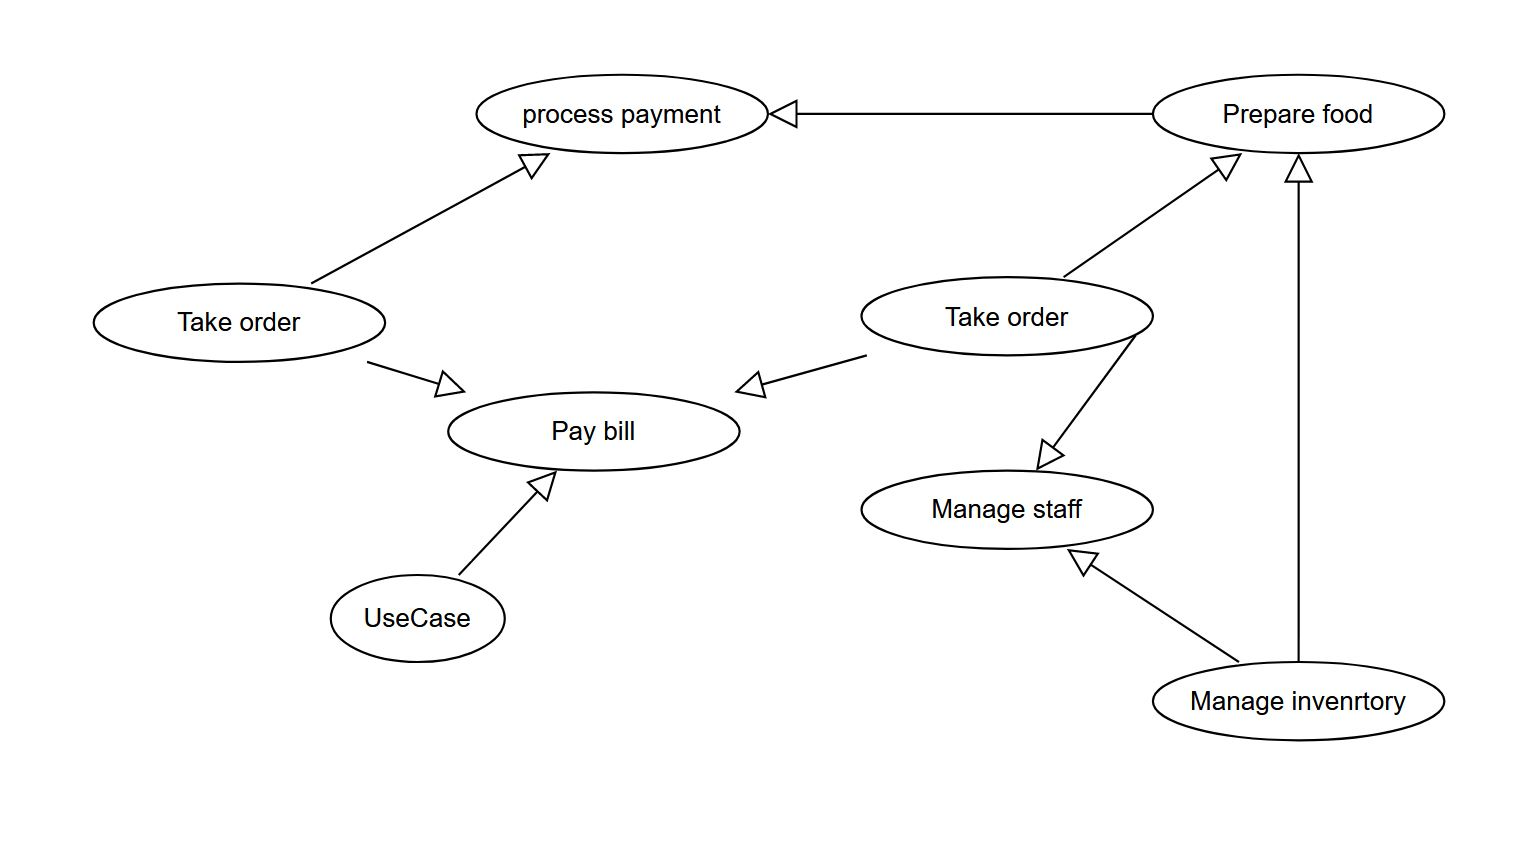generalization: (309, 152, 551, 282), (1063, 153, 1243, 274), (1064, 546, 1238, 662), (1281, 149, 1315, 662), (766, 95, 1155, 131), (1038, 335, 1136, 468), (460, 468, 559, 575), (734, 349, 873, 399), (360, 354, 466, 401)
text: (1180, 687, 1408, 718), (165, 295, 301, 345), (517, 102, 722, 127), (923, 492, 1081, 523), (352, 597, 475, 635), (1220, 99, 1377, 125), (950, 303, 1069, 330), (539, 420, 641, 447)
use_case: (90, 280, 386, 364), (475, 73, 772, 155), (1149, 660, 1447, 742), (861, 275, 1155, 357), (448, 391, 741, 472), (861, 471, 1155, 552), (1152, 73, 1445, 153), (324, 571, 509, 660)
